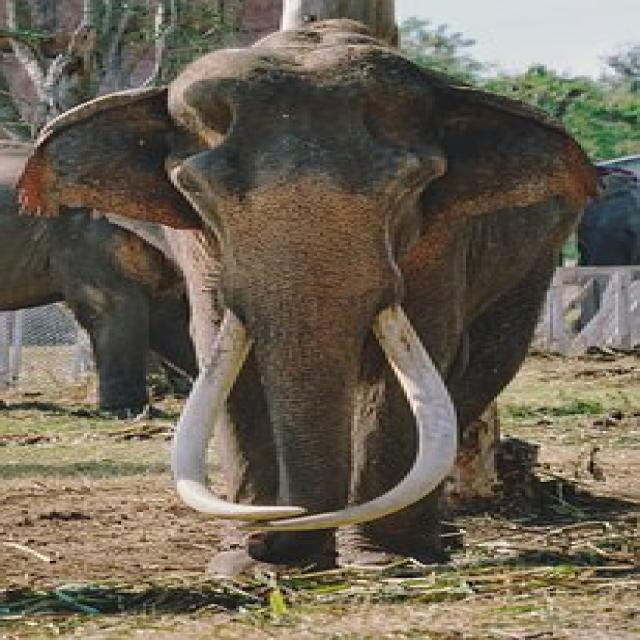Elephant: (13, 12, 596, 592)
